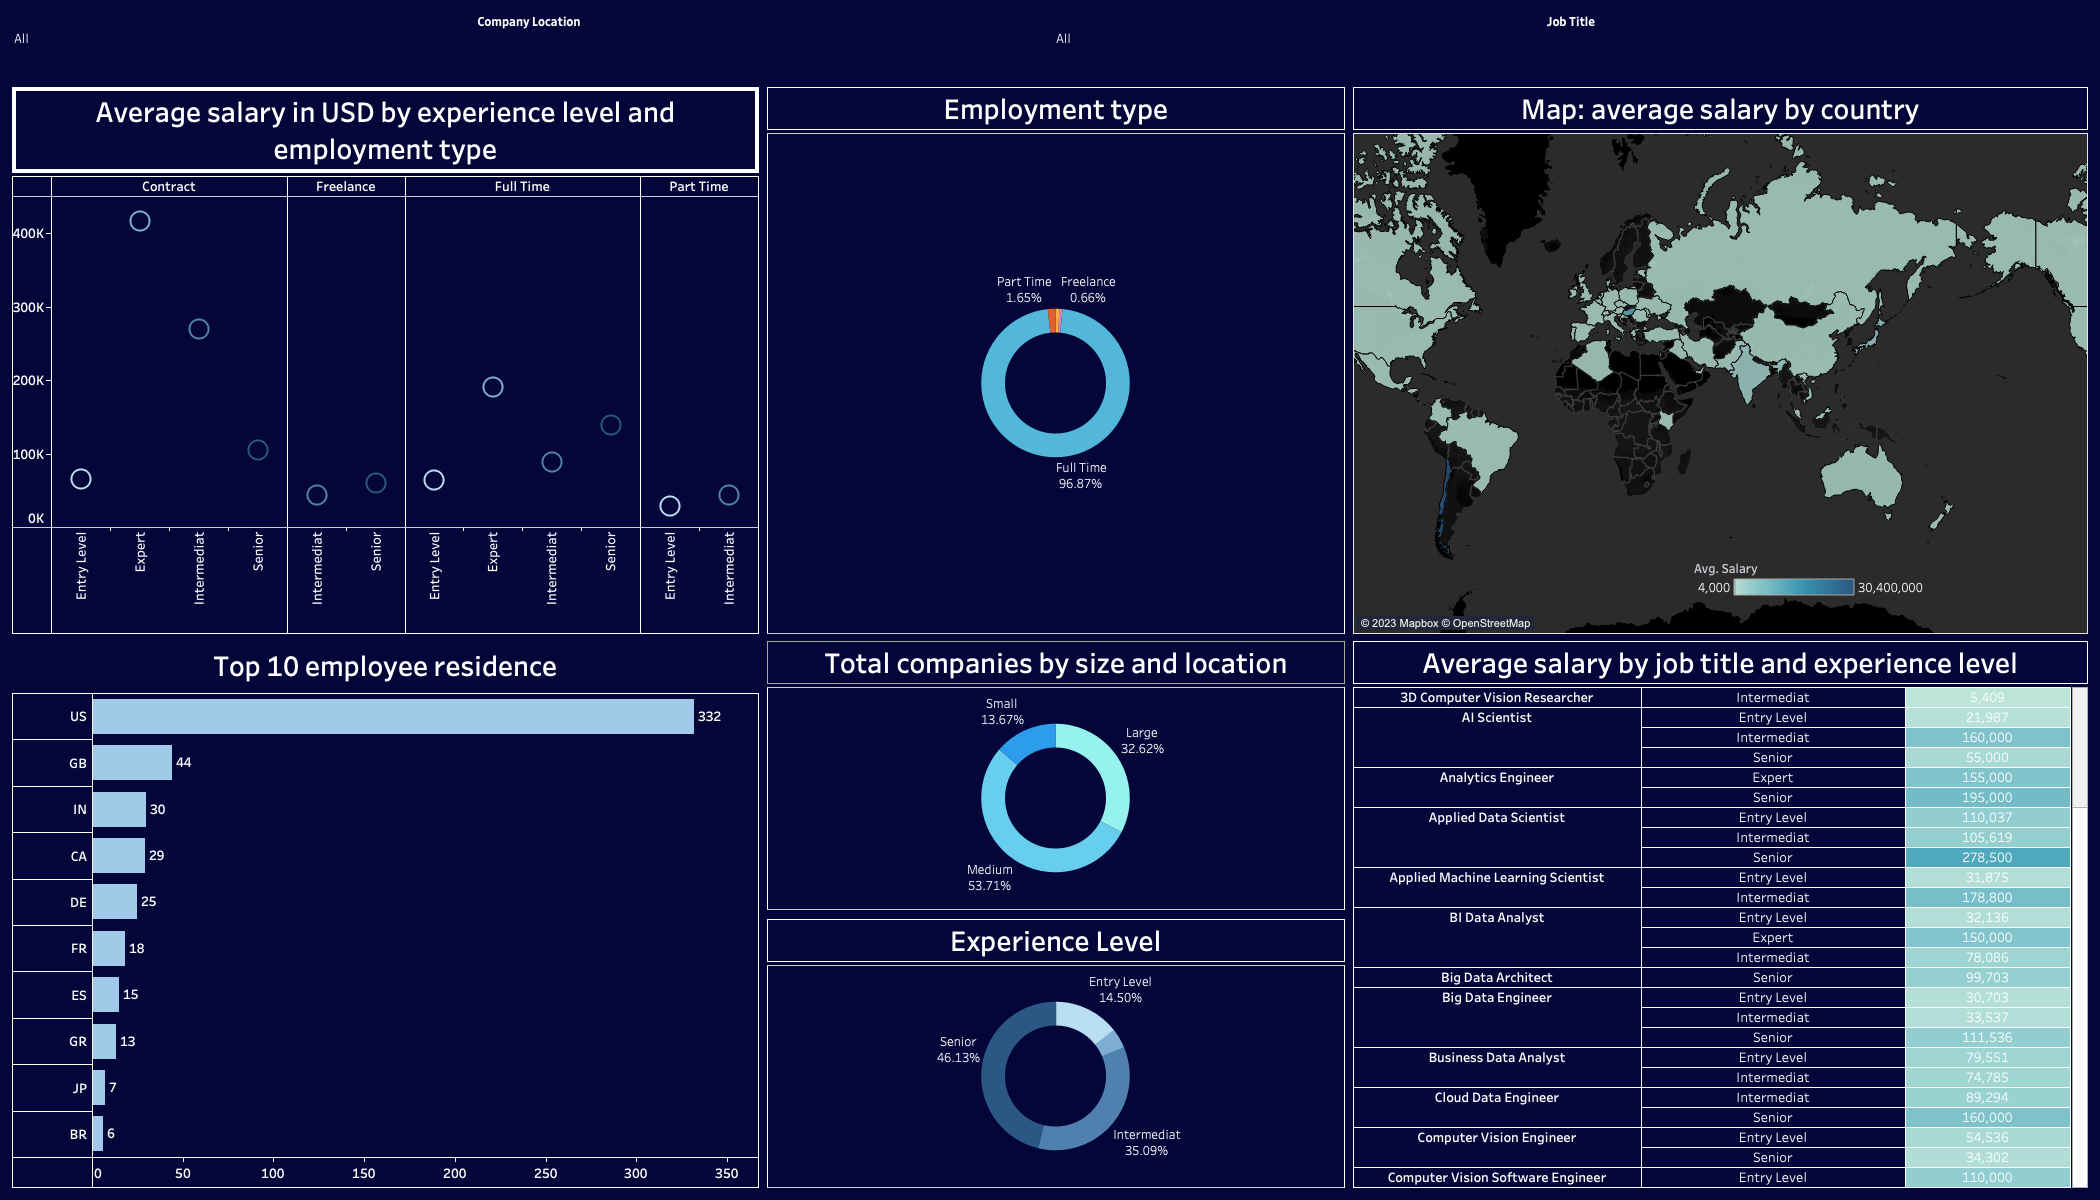

Layout of this report page (visuals, bound fields, positions):
{"tool":"tableau","page":{"name":"Dashboard 1","canvas":[2100,1200],"ordinal":0},"visuals":[{"type":"filter","title":"Employment type","param":"[federated.1ps0gj21ixb5wt11y3wi60rpyc8c].[none:company_location:nk]","box":[8,8,1042,52]},{"type":"filter","title":"Map: average salary by country","param":"[federated.1ps0gj21ixb5wt11y3wi60rpyc8c].[none:job_title:nk]","box":[1050,8,1042,52]},{"type":"worksheet","title":"Average salary in USD by experience level and employment type","mark":"Shape","rows":["salary_in_usd"],"cols":["employment_type","experience_level"],"box":[8,83,755,554.5]},{"type":"worksheet","title":"Employment type","mark":"Pie","rows":["Calculation_4260123809801134081","Calculation_4260123809801134081"],"box":[763,83,586,554.5]},{"type":"worksheet","title":"Map: average salary by country","mark":"Automatic","box":[1349,83,743,554.5]},{"type":"legend","title":"Map: average salary by country","param":"[federated.1ps0gj21ixb5wt11y3wi60rpyc8c].[avg:salary:qk]","box":[1694,556,234,76]},{"type":"worksheet","title":"Top 10 employee residence","mark":"Automatic","rows":["employee_residence"],"cols":["employee_residence"],"box":[8,637.5,755,554.5]},{"type":"worksheet","title":"Total companies by size and location","mark":"Pie","rows":["Calculation_4260123809801134081","Calculation_4260123809801134081"],"box":[763,637.5,586,277.2]},{"type":"worksheet","title":"Average salary by job title and experience level ","mark":"Square","rows":["job_title","experience_level"],"box":[1349,637.5,743,554.5]},{"type":"worksheet","title":"Experience Level","mark":"Pie","rows":["Calculation_4260123809801134081","Calculation_4260123809801134081"],"box":[763,914.7,586,277.2]}]}

Visuals, with their boxes in screenshot pixels (x1, y1, x2, y2), scaled from the page's 2100x1200 canvas onto the 2100x1200 screenshot:
"Employment type" filter: 8,8,1050,60
"Map: average salary by country" filter: 1050,8,2092,60
"Average salary in USD by experience level and employment type" worksheet (Shape marks): 8,83,763,638
"Employment type" worksheet (Pie marks): 763,83,1349,638
"Map: average salary by country" worksheet: 1349,83,2092,638
"Map: average salary by country" legend: 1694,556,1928,632
"Top 10 employee residence" worksheet: 8,638,763,1192
"Total companies by size and location" worksheet (Pie marks): 763,638,1349,915
"Average salary by job title and experience level " worksheet (Square marks): 1349,638,2092,1192
"Experience Level" worksheet (Pie marks): 763,915,1349,1192
